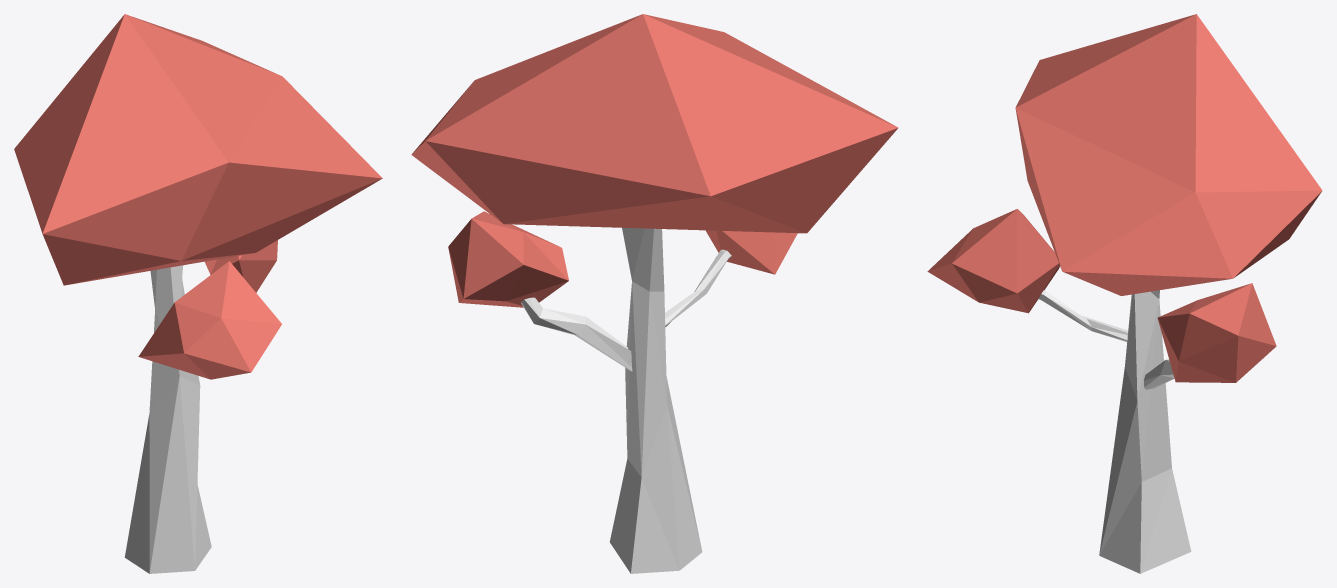
The model's file is Tree_5.glb.
The picture shows the model from 3 angles, left to right: view 1: azimuth 30°, elevation 25°; view 2: azimuth 150°, elevation 25°; view 3: azimuth 270°, elevation 25°; orthographic projection. The views are drawn at different scales.
Parts seen in each view (by area): view 1: Sphere.2, Tree_5, Sphere.1, Sphere; view 2: Sphere.2, Tree_5, Sphere, Sphere.1; view 3: Sphere.2, Tree_5, Sphere, Sphere.1.
Part boxes in pixels (left/top/right/bottom): Sphere.2: left=14, top=14, right=382, bottom=285; Tree_5: left=124, top=265, right=211, bottom=573; Sphere.1: left=138, top=261, right=281, bottom=379; Sphere: left=205, top=240, right=277, bottom=292; Sphere.2: left=411, top=14, right=898, bottom=233; Tree_5: left=521, top=227, right=731, bottom=573; Sphere: left=448, top=211, right=568, bottom=307; Sphere.1: left=705, top=230, right=797, bottom=274; Sphere.2: left=1015, top=14, right=1322, bottom=295; Tree_5: left=1038, top=290, right=1191, bottom=573; Sphere: left=1157, top=283, right=1276, bottom=382; Sphere.1: left=927, top=209, right=1059, bottom=313.
Bounding box in the file's own units: 580 × 815 × 550.
